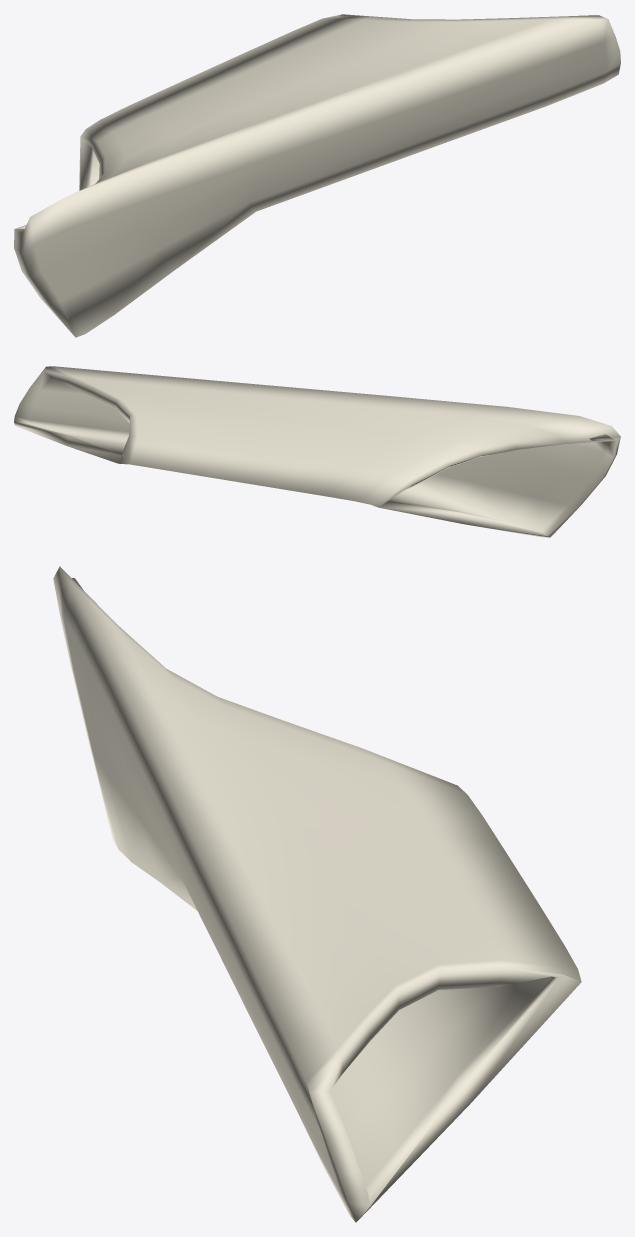
3 renders of one model, top to bottom at view 1: azimuth 30°, elevation 25°; view 2: azimuth 150°, elevation 25°; view 3: azimuth 270°, elevation 25°, orthographic. The views are drawn at different scales.
Parts seen in each view (by area): view 1: ZA_d8712122913db6cc; view 2: ZA_d8712122913db6cc; view 3: ZA_d8712122913db6cc.
Boxes of the visible parts, left/top/right/bottom form: ZA_d8712122913db6cc: left=14, top=14, right=620, bottom=337; ZA_d8712122913db6cc: left=14, top=366, right=620, bottom=537; ZA_d8712122913db6cc: left=53, top=566, right=581, bottom=1222.
Size of the model in its own units: 0.0285 by 0.00612 by 0.0123.
